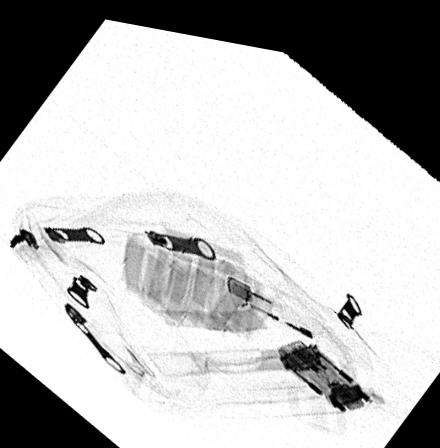Lighter: (225, 265, 374, 357)
